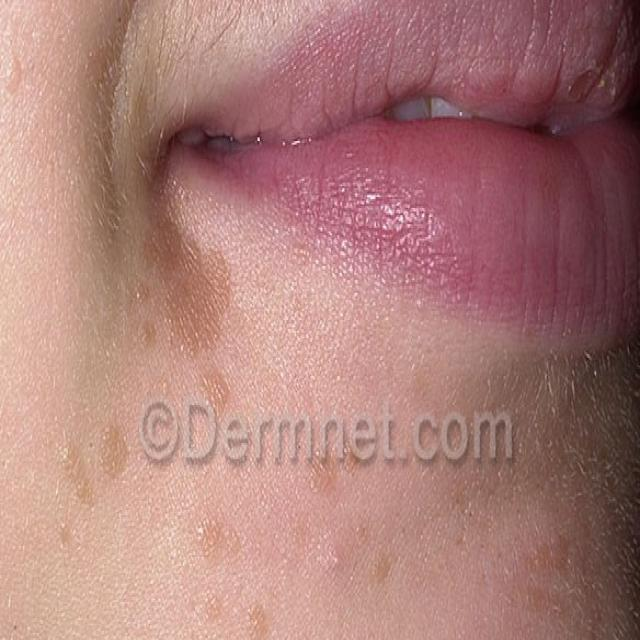Warts: (131, 189, 226, 416), (296, 427, 397, 608), (53, 419, 156, 582), (513, 517, 604, 640), (185, 500, 244, 589), (200, 598, 285, 640)
